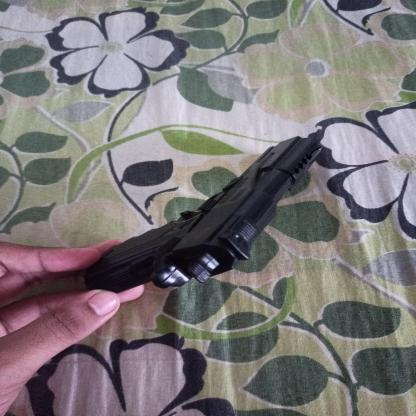handgun: (89, 138, 322, 295)
